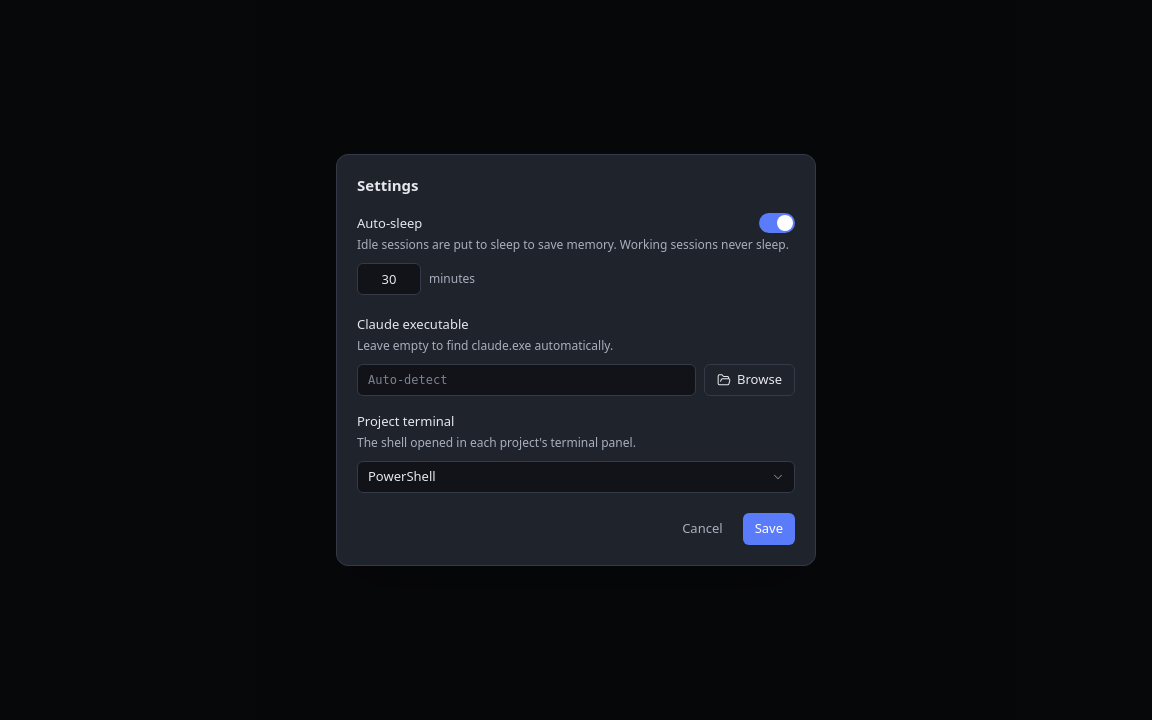
Test: SettingsDialog › minutes 4 is invalid: error shown and Save disabled
Replace the text in the number field with id "set-minutes" with "4" at (389, 279), box [357,263,421,295]
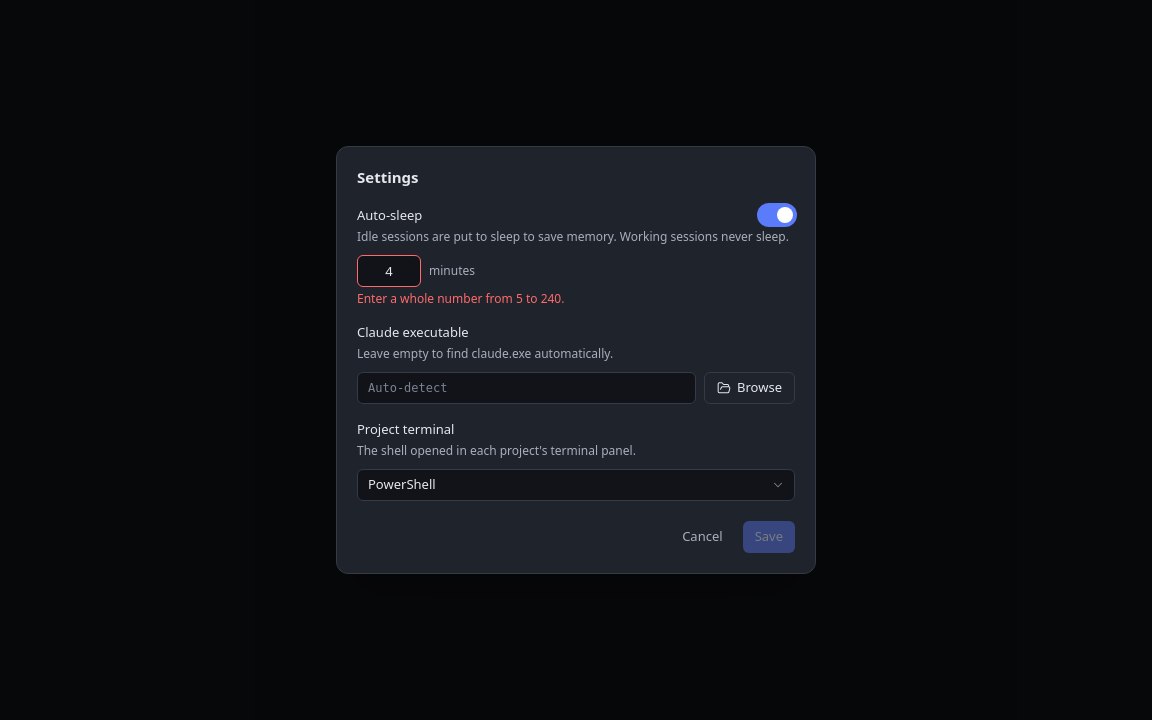
expect the message with id "set-minutes-err" shows "5 to 240": met, box [357,290,564,307]
expect the button "Save" is disabled: met, box [743,521,795,553]
